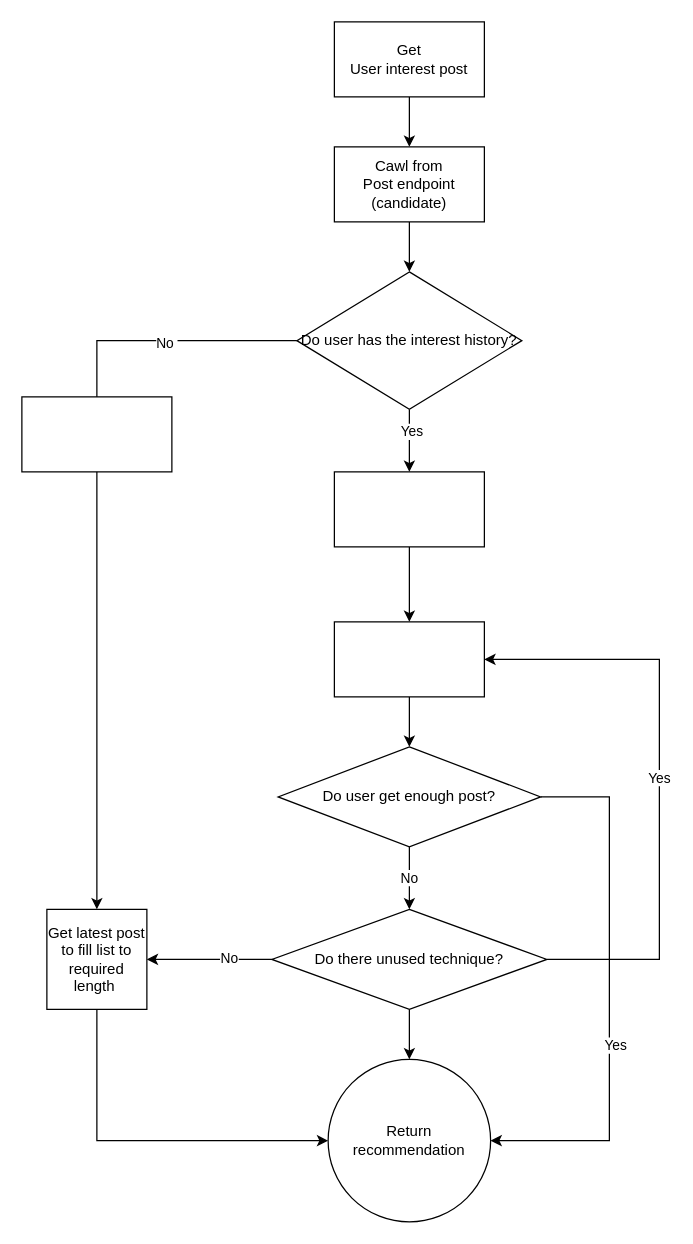
Image size: 693x1244. Some labels were removed from this diagram. The shapes that lost their labels are listed below. From the top down, each one's box as (x1, y1, x2, y2) in pixels, then its label:
(21, 396, 172, 472): Cold start
(333, 471, 484, 547): Keyword Extraction for User interet and candidate
(333, 621, 484, 697): Different filtering technique and add result to recommendation
